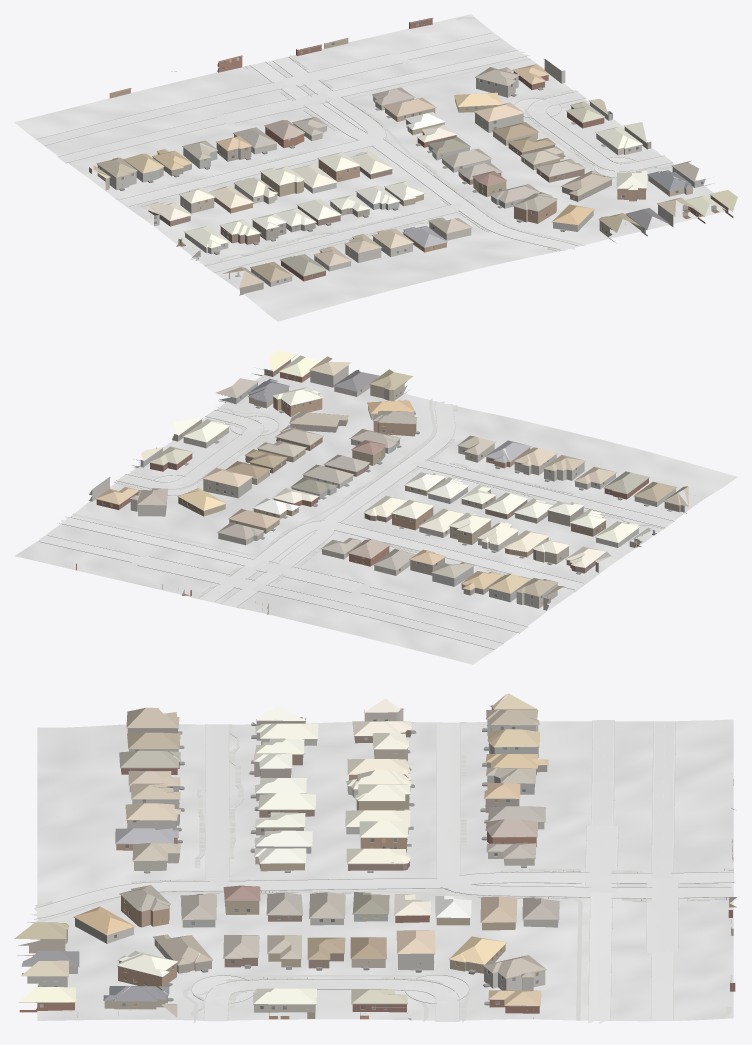
3 views of the same model, one above another, from view 1: azimuth 30°, elevation 25°; view 2: azimuth 150°, elevation 25°; view 3: azimuth 270°, elevation 25° (orthographic). The views are drawn at different scales.
Visible parts, largest first — view 1: ground, roof, concrete, wall, asphalt, curb, wall_stucco, detail, walk, wall_stone, glass; view 2: ground, roof, concrete, wall, asphalt, curb, wall_stucco, detail, wall_stone, walk; view 3: ground, roof, concrete, asphalt, wall, walk, curb, detail, wall_stucco, wall_stone, mark_w, glass (+1 smaller).
Part boxes in pixels (x1=…): ground: x1=14, y1=14, x2=734, y2=321; roof: x1=93, y1=64, x2=737, y2=287; concrete: x1=120, y1=57, x2=672, y2=272; wall: x1=109, y1=17, x2=733, y2=295; asphalt: x1=37, y1=33, x2=530, y2=162; curb: x1=36, y1=33, x2=673, y2=272; wall_stucco: x1=105, y1=59, x2=714, y2=242; detail: x1=96, y1=18, x2=732, y2=288; walk: x1=115, y1=16, x2=674, y2=265; wall_stone: x1=97, y1=72, x2=673, y2=286; glass: x1=100, y1=21, x2=713, y2=282; ground: x1=14, y1=369, x2=737, y2=664; roof: x1=96, y1=350, x2=688, y2=597; concrete: x1=117, y1=401, x2=673, y2=607; wall: x1=76, y1=359, x2=686, y2=614; asphalt: x1=40, y1=516, x2=527, y2=649; curb: x1=39, y1=402, x2=674, y2=649; wall_stucco: x1=89, y1=380, x2=548, y2=610; detail: x1=63, y1=355, x2=695, y2=611; wall_stone: x1=130, y1=365, x2=675, y2=608; walk: x1=19, y1=398, x2=664, y2=608; ground: x1=37, y1=719, x2=733, y2=1021; roof: x1=14, y1=693, x2=559, y2=1017; concrete: x1=31, y1=723, x2=734, y2=1021; asphalt: x1=585, y1=720, x2=678, y2=1023; wall: x1=19, y1=718, x2=735, y2=1013; walk: x1=33, y1=722, x2=735, y2=1022; curb: x1=34, y1=720, x2=734, y2=1022; detail: x1=19, y1=705, x2=734, y2=1020; wall_stucco: x1=17, y1=705, x2=558, y2=1018; wall_stone: x1=22, y1=708, x2=545, y2=990; mark_w: x1=207, y1=720, x2=677, y2=1020; glass: x1=54, y1=719, x2=732, y2=1009.
Size of the model in its own units: 261 by 12.3 by 260.
